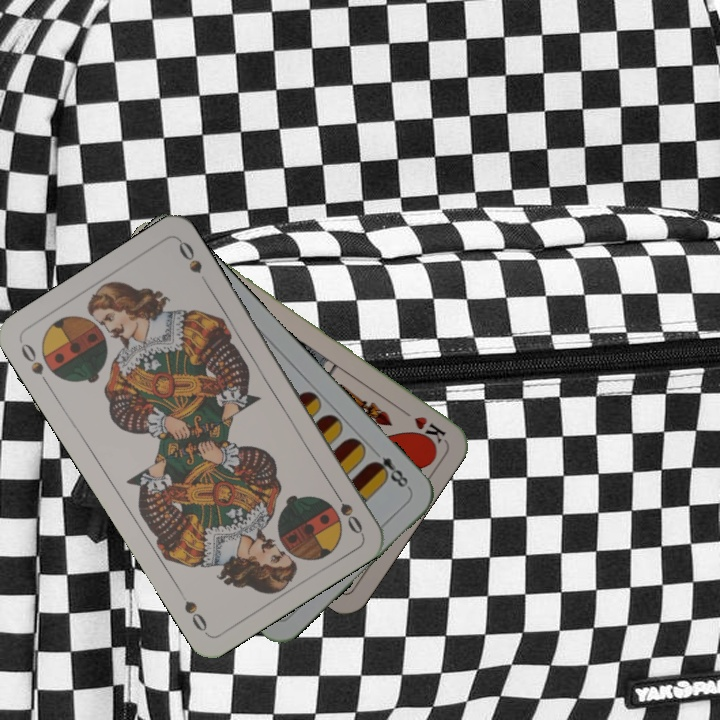E8: (367, 445, 413, 492)
HK: (395, 403, 449, 446)
SO: (327, 483, 366, 537), (16, 338, 53, 391)
